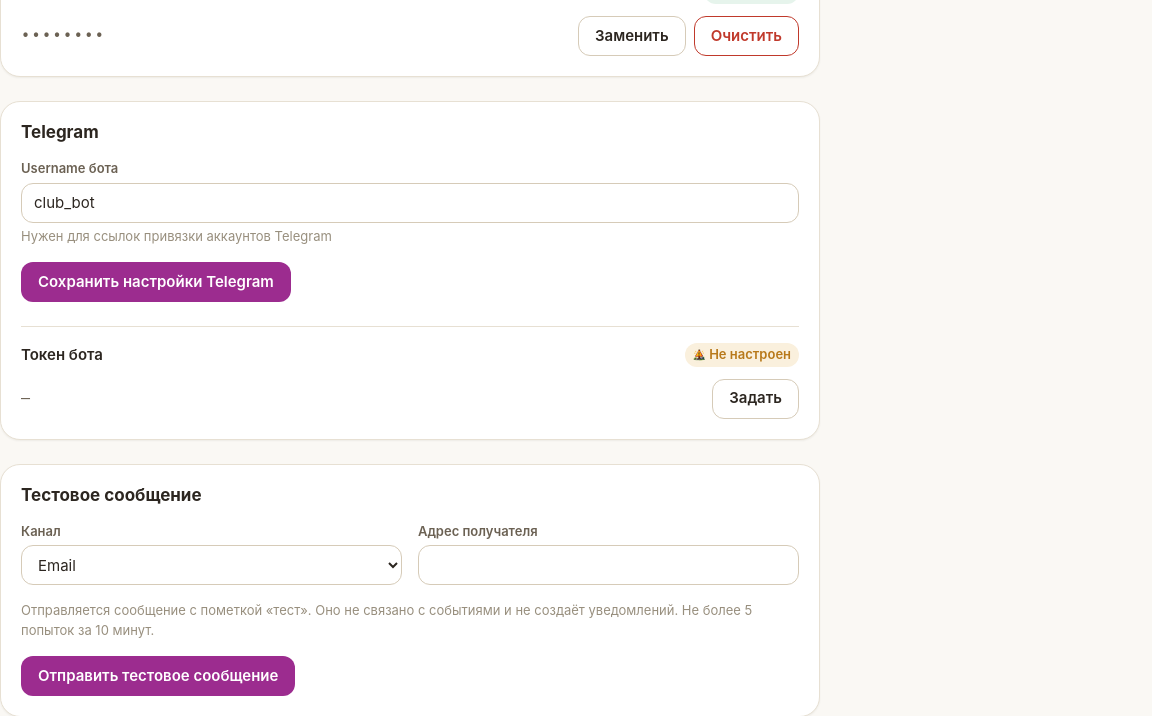
Test case: Test send › explains the rate limit
(page scrolled)
Type "me@club.test" into the field labelled "Адрес получателя" at (608, 565), box [418, 545, 799, 585]
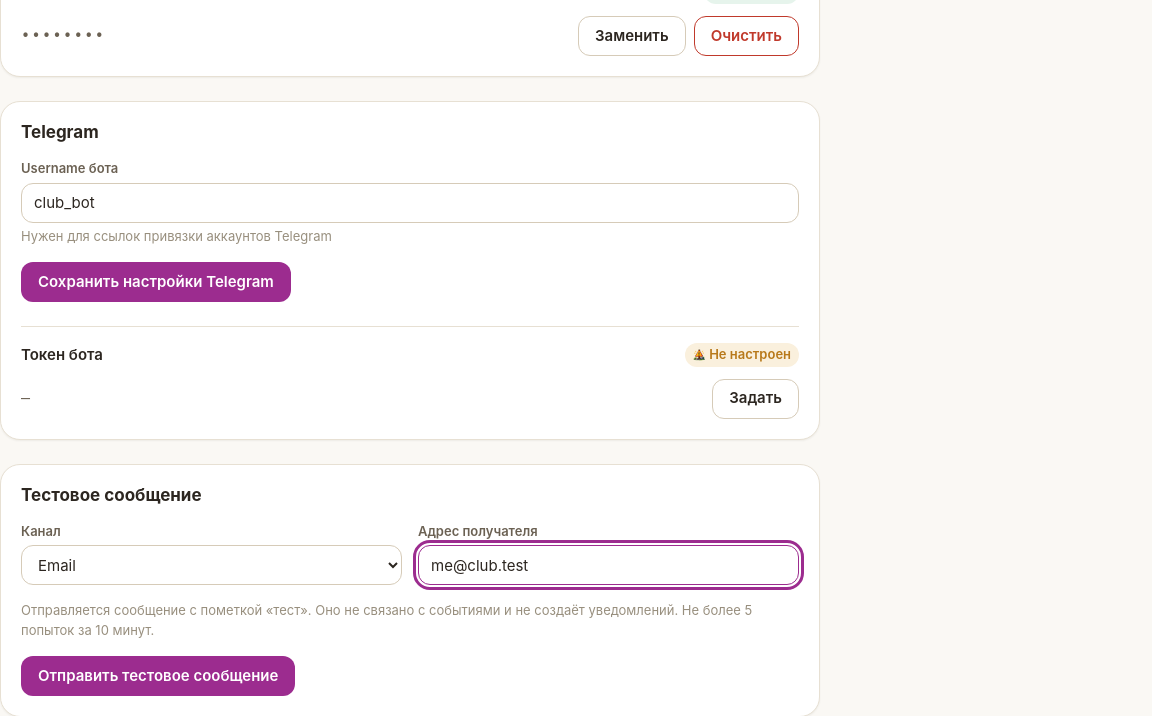
Click the button "Отправить тестовое сообщение" at (158, 676), box [21, 656, 295, 696]
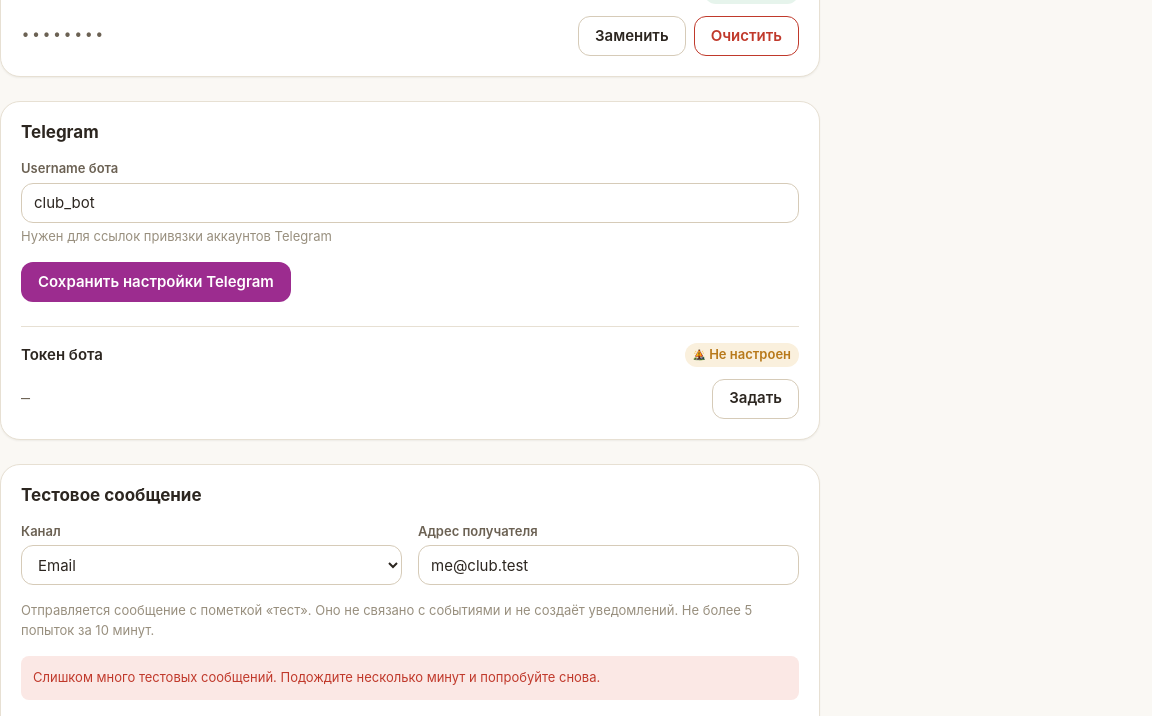
Expected: the text "Слишком много тестовых сообщений" is shown, [33, 669, 600, 685]
